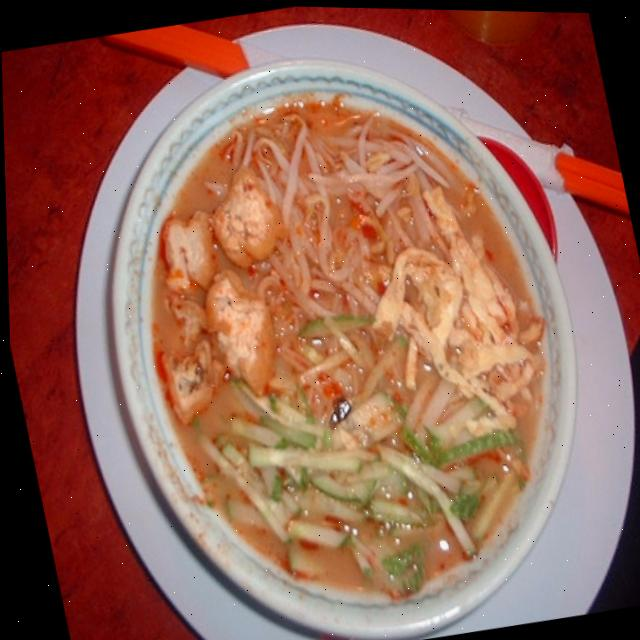面条主食: (37, 1, 640, 640)
